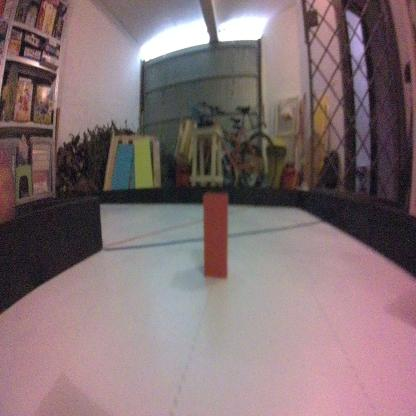red: (201, 188, 230, 280)
